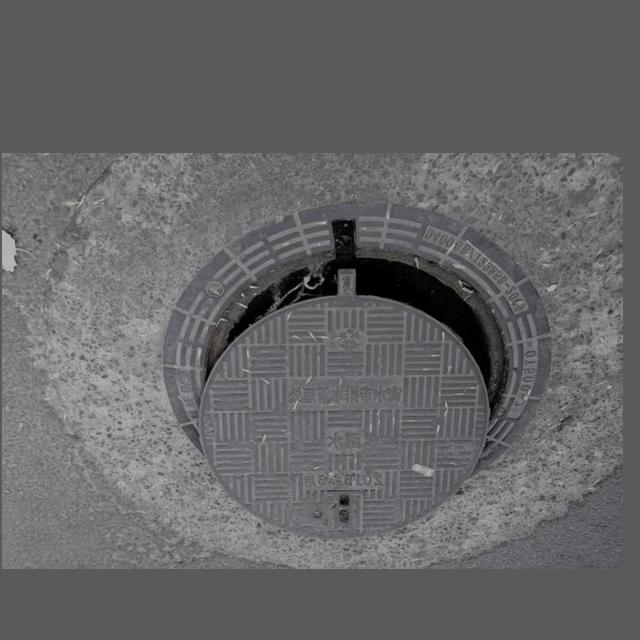uncovered: (120, 193, 572, 537)
